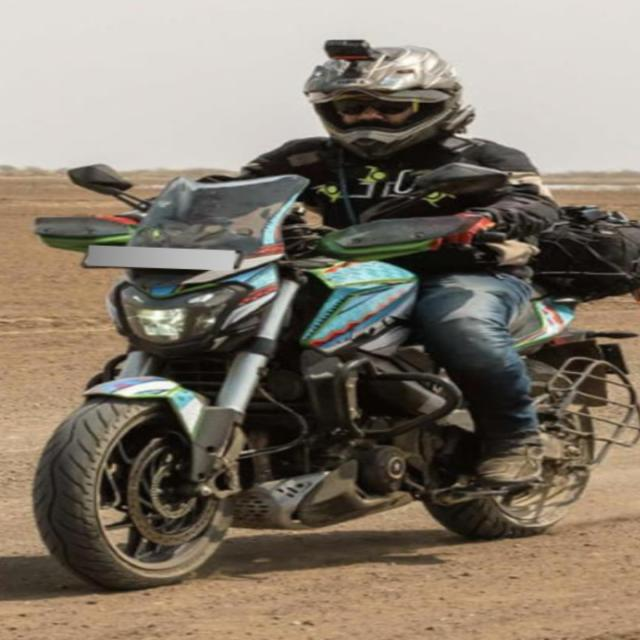normal: (29, 8, 640, 622)
